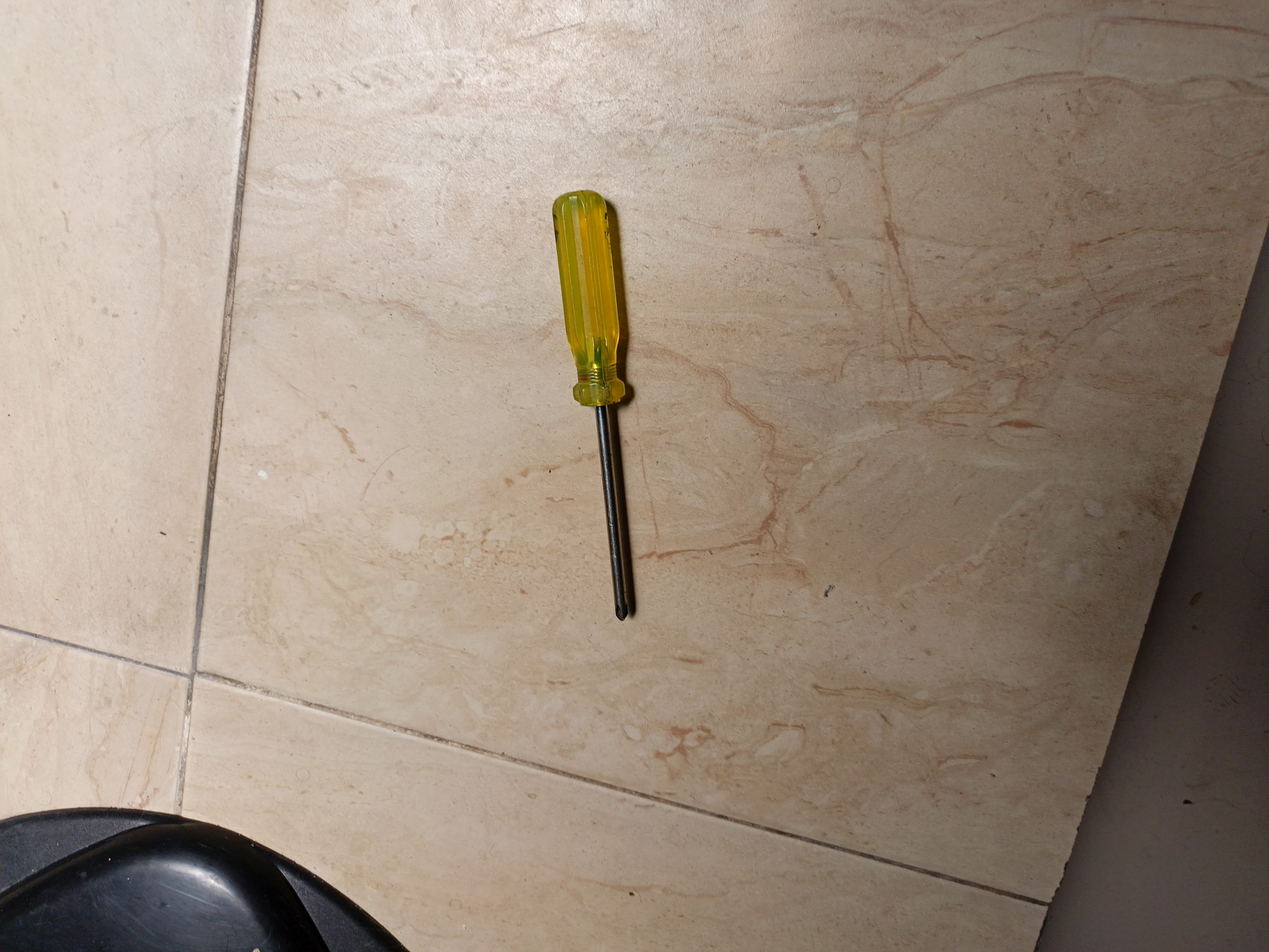Destornillador: (553, 191, 633, 620)
